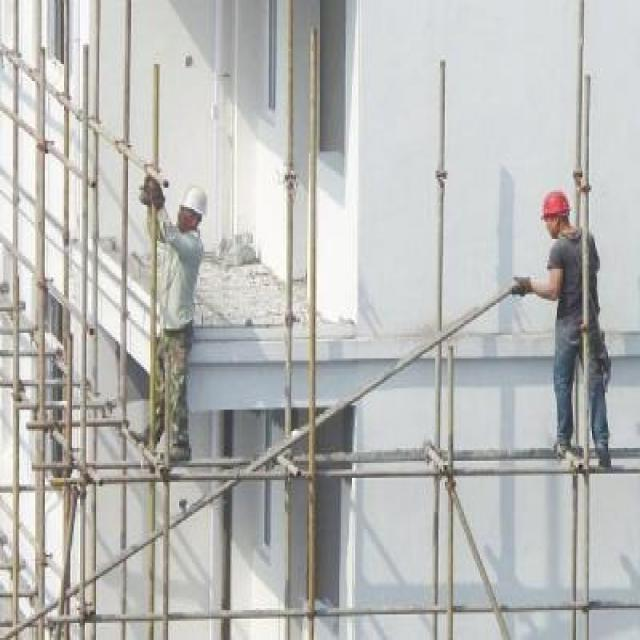hat: (171, 179, 211, 237), (540, 188, 574, 239)
